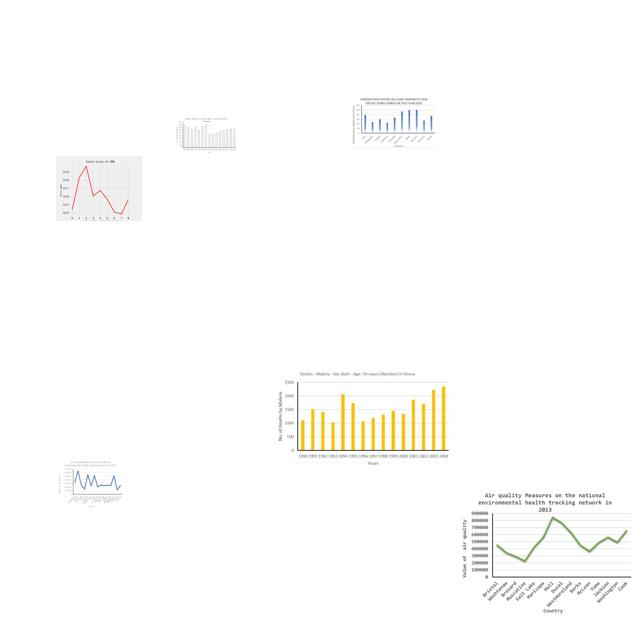Graph: (457, 490, 633, 616), (273, 368, 452, 468), (56, 156, 142, 221), (351, 96, 436, 148), (56, 460, 125, 509), (175, 116, 237, 153)
